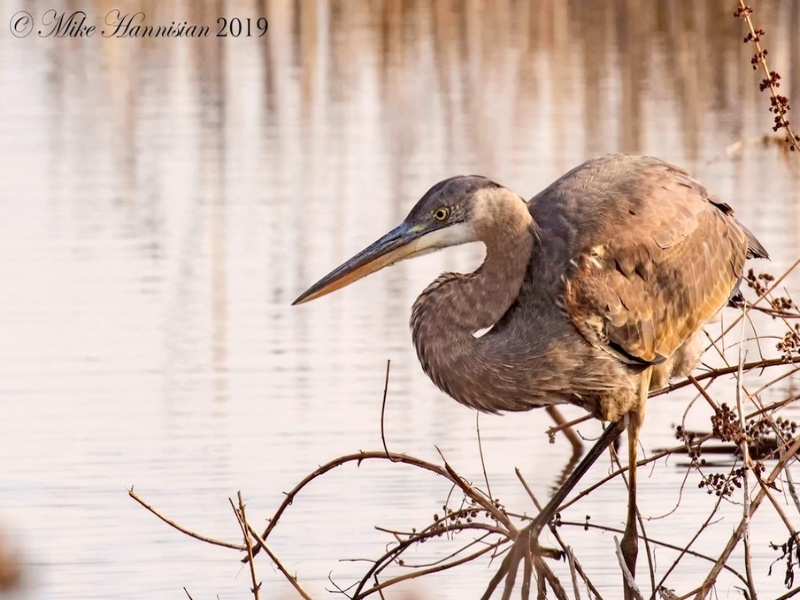heron: (284, 153, 772, 585)
